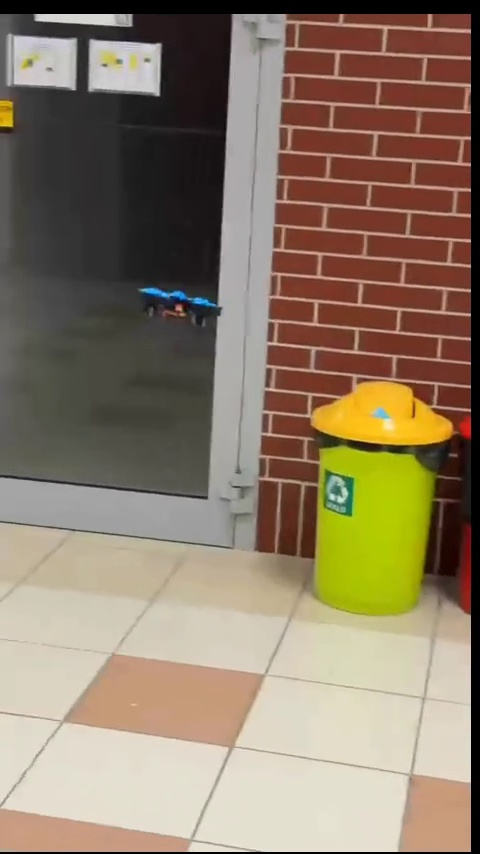drone: (129, 283, 233, 328)
